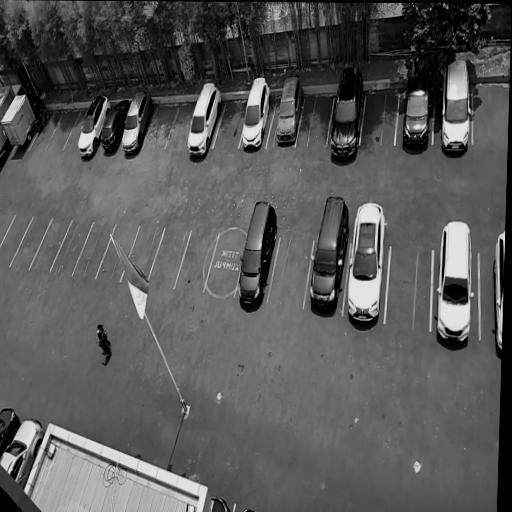Car: (430, 215, 479, 358), (342, 195, 392, 334), (305, 189, 352, 329), (233, 197, 283, 312), (435, 45, 473, 164), (327, 67, 365, 165), (181, 80, 227, 160), (0, 414, 48, 488), (399, 53, 434, 154), (0, 86, 48, 151), (237, 75, 277, 149), (484, 226, 505, 363), (271, 73, 306, 149), (118, 90, 157, 158), (73, 93, 112, 159), (97, 97, 132, 152), (0, 402, 26, 456), (206, 486, 236, 512)
Space Available: (386, 246, 432, 330), (267, 235, 313, 309), (203, 233, 247, 297), (174, 232, 219, 294), (149, 228, 191, 288), (97, 225, 139, 283), (121, 227, 164, 283), (72, 222, 115, 278), (473, 81, 510, 146), (360, 85, 399, 146), (50, 220, 93, 275), (10, 216, 52, 271), (29, 218, 71, 272), (297, 94, 335, 146), (0, 215, 33, 269), (213, 98, 248, 148), (143, 103, 179, 149), (165, 102, 196, 148), (47, 110, 81, 150), (64, 108, 88, 150), (0, 214, 15, 245)
